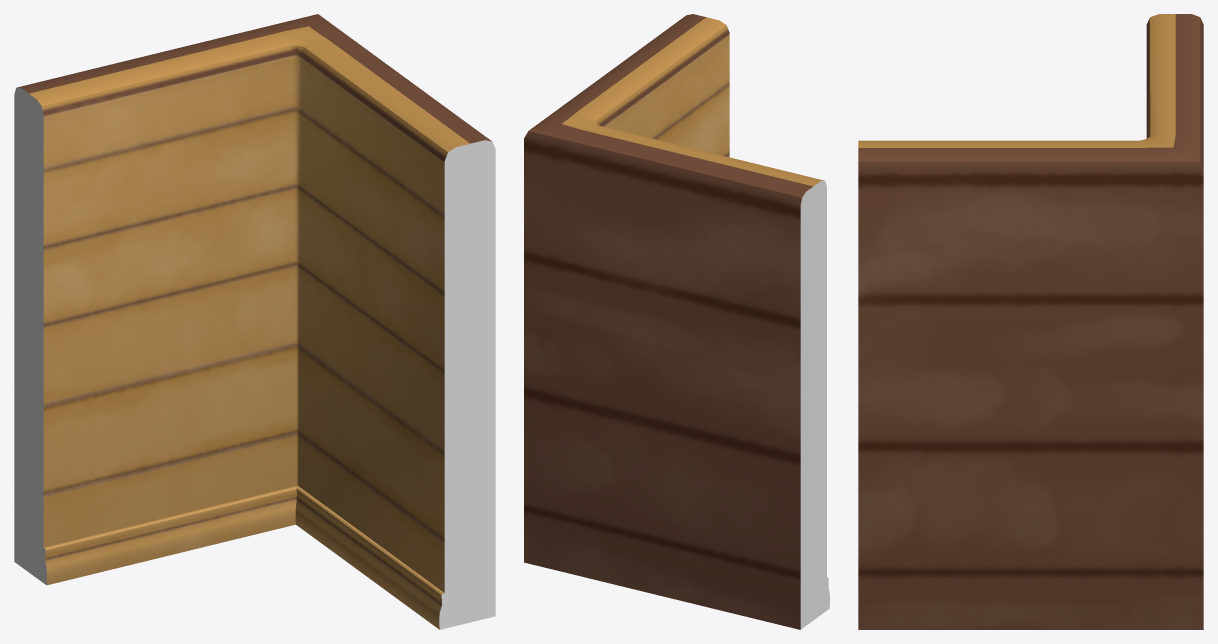
Rendered from Wall_outer_Corner_02.fbx.
The picture shows the model from 3 angles, left to right: view 1: azimuth 30°, elevation 25°; view 2: azimuth 150°, elevation 25°; view 3: azimuth 270°, elevation 25°; orthographic projection. The views are drawn at different scales.
Visible parts, largest first — view 1: OuterWall_Corner_00.003; view 2: OuterWall_Corner_00.003; view 3: OuterWall_Corner_00.003.
Boxes of the visible parts, x1,y1,x2,y2 form: OuterWall_Corner_00.003: (14, 14, 495, 629); OuterWall_Corner_00.003: (524, 14, 829, 629); OuterWall_Corner_00.003: (858, 14, 1203, 629).
Bounding box in the file's own units: 100 × 150 × 100.
